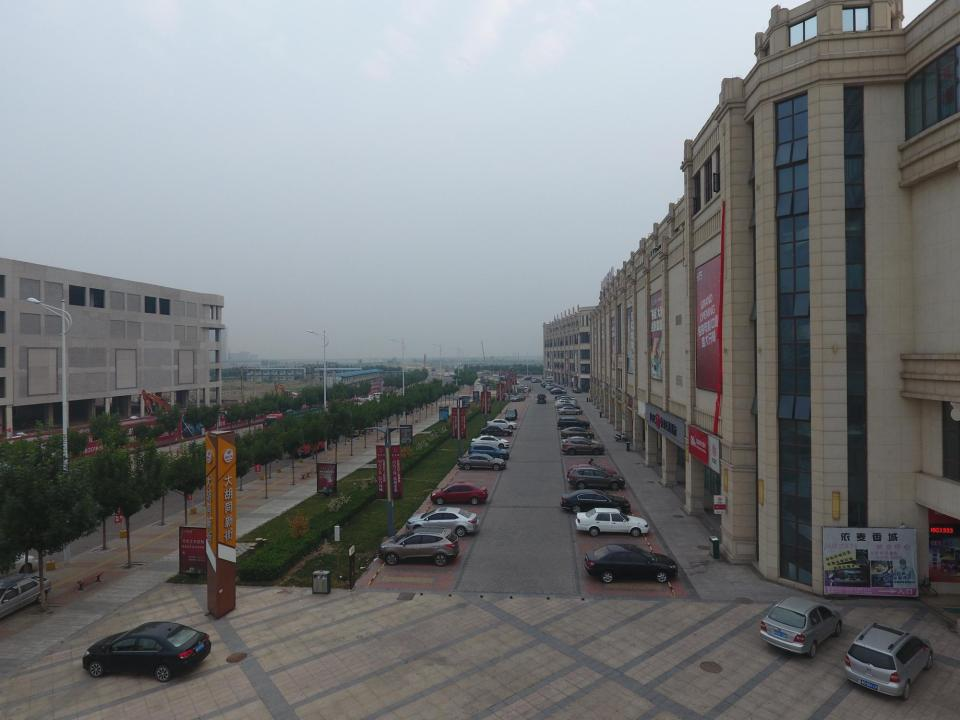bus: (288, 421, 333, 455)
car: (83, 622, 211, 682), (583, 544, 678, 584), (0, 573, 52, 627), (406, 507, 479, 537), (575, 507, 649, 536), (560, 488, 631, 516), (0, 551, 38, 588), (430, 481, 488, 505), (457, 453, 506, 471), (567, 463, 617, 480), (471, 435, 509, 449), (562, 436, 600, 447), (561, 426, 594, 438), (480, 425, 513, 436), (486, 419, 517, 430), (558, 406, 582, 414), (557, 403, 580, 411), (554, 399, 576, 407), (505, 408, 518, 420), (557, 396, 577, 403), (554, 394, 575, 400), (556, 398, 576, 404), (556, 397, 575, 403), (510, 395, 526, 402), (550, 389, 566, 395), (548, 386, 564, 391), (551, 388, 566, 393), (553, 387, 566, 392), (572, 387, 582, 393), (532, 378, 542, 382), (540, 382, 550, 386), (541, 382, 551, 386), (542, 384, 552, 388), (523, 376, 530, 380), (524, 377, 532, 380), (449, 374, 454, 378), (492, 374, 498, 377)
truck: (262, 406, 324, 439)
van: (845, 623, 933, 701), (760, 595, 842, 658), (379, 526, 459, 566), (568, 467, 625, 490), (468, 443, 509, 460), (562, 439, 604, 455), (558, 417, 590, 429), (356, 395, 374, 402), (536, 394, 546, 403), (371, 393, 385, 399), (545, 384, 559, 390), (545, 376, 553, 382), (545, 382, 552, 387), (531, 379, 537, 382), (531, 378, 538, 380), (443, 374, 449, 376)
